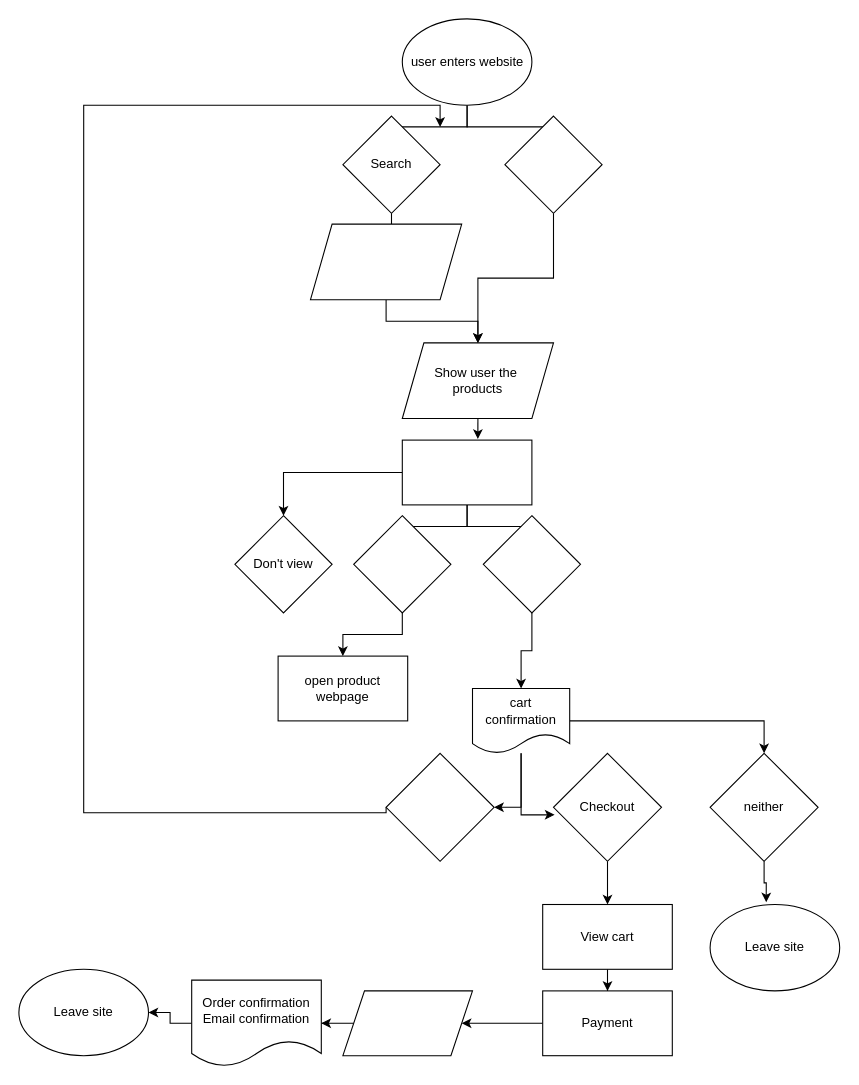
Image size: 859x1085. Some labels were removed from this diagram. Each missing label, with the centre of its shape:
Add to cart: point 531,564
Click View: point 402,564
continue shopping: point 439,806
Explore: point 553,164
User inputs search query: point 385,261
User views products: point 466,472
view payment: point 407,1023
